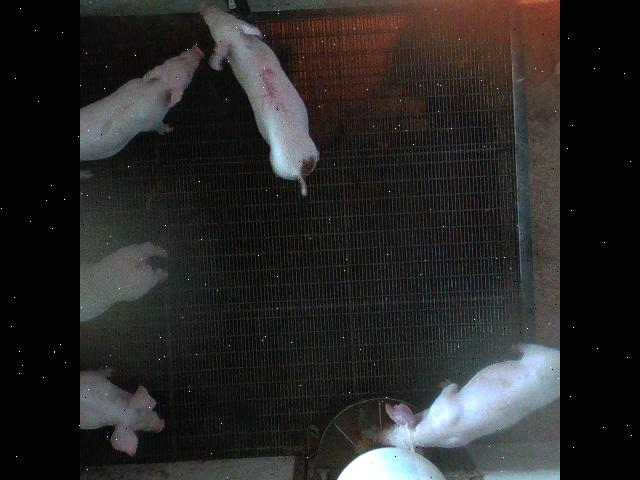pig-5: (201, 2, 318, 195)
